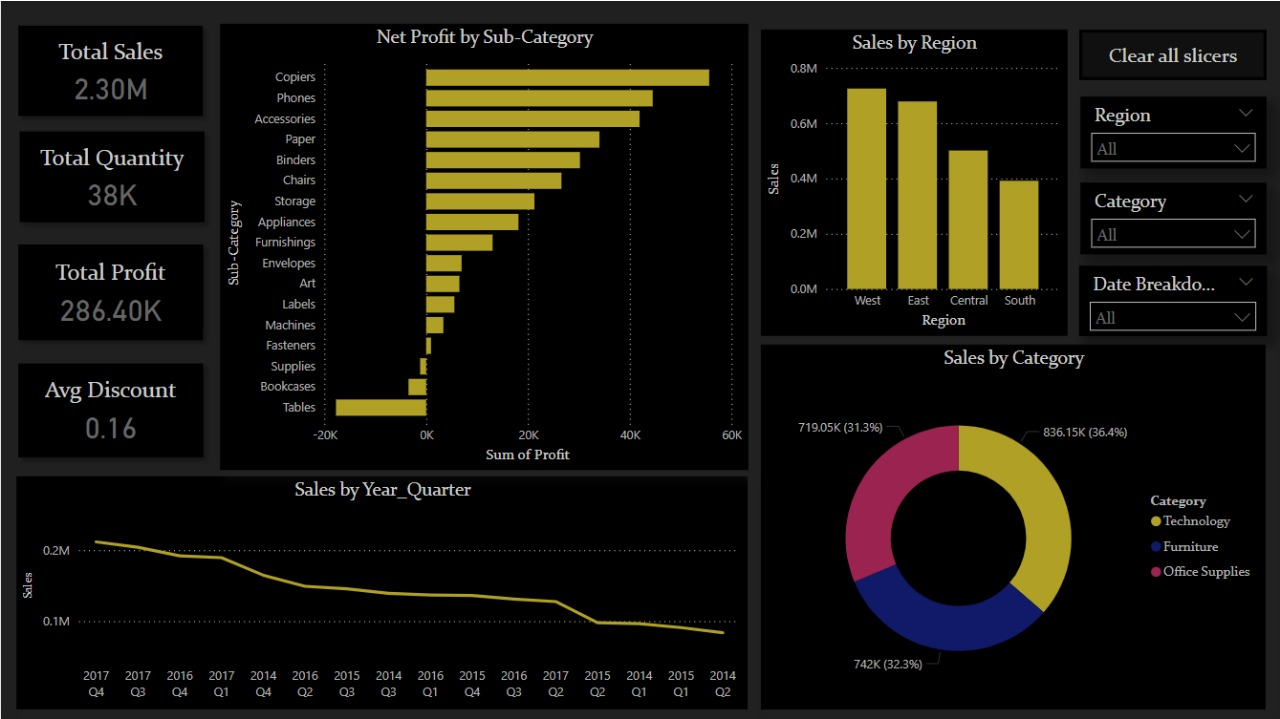

What the dashboard file says about the page in this screenshot:
{"tool":"powerbi","page":{"name":"Supermarket Sales Dashboard","canvas":[1280,720],"ordinal":0},"visuals":[{"type":"cardVisual","fields":{"Data":["Sum(Superstore Sales.Sales)"]},"box":[0,6.5,219.6,125.2],"z":0},{"type":"cardVisual","fields":{"Data":["Sum(Superstore Sales.Quantity)"]},"box":[1.6,113.9,219.6,125.2],"z":1000},{"type":"lineChart","title":"Sales by Year_Quarter","fields":{"Y":["Sum(Superstore_Sales.Sales)"],"Category":["Superstore_Sales.Year_Quarter"]},"box":[16.3,475,730.3,232.6],"z":2000},{"type":"clusteredColumnChart","fields":{"Category":["Superstore_Sales.Region"],"Y":["Sum(Superstore_Sales.Sales)"]},"box":[759.6,29.3,305.8,305.8],"z":3000},{"type":"donutChart","title":"Sales by Category","fields":{"Y":["Sum(Superstore_Sales.Sales)"],"Category":["Superstore_Sales.Category"]},"box":[759.6,343.2,504.2,364.3],"z":4000},{"type":"slicer","fields":{"Values":["Superstore_Sales.Region"]},"box":[1078.4,96,185.4,71.6],"z":5000},{"type":"slicer","fields":{"Values":["Superstore_Sales.Category"]},"box":[1078.4,182.2,185.4,71.6],"z":6000},{"type":"clusteredBarChart","title":"Net Profit by Sub-Category","fields":{"Category":["Superstore_Sales.Sub-Category"],"Y":["Sum(Superstore_Sales.Profit)"]},"box":[219.6,22.8,527,445.7],"z":7000},{"type":"cardVisual","fields":{"Data":["Sum(Superstore_Sales.Profit)"]},"box":[0,226.1,219.6,130.1],"z":8000},{"type":"cardVisual","fields":{"Data":["Superstore_Sales.Avg Discount"]},"box":[0,344.8,219.6,128.5],"z":9000},{"type":"slicer","fields":{"Values":["Superstore_Sales.Order Date.Variation.Date Hierarchy.Year","Superstore_Sales.Order Date.Variation.Date Hierarchy.Quarter","Superstore_Sales.Order Date.Variation.Date Hierarchy.Month","Superstore_Sales.Order Date.Variation.Date Hierarchy.Day"]},"box":[1076.8,265.1,187.1,69.9],"z":10000},{"type":"actionButton","box":[1076.8,29.3,187.1,50.4],"z":13000}]}

Visuals, with their boxes in screenshot pixels (x1, y1, x2, y2), scaled from the page's 1280x720 canvas onto the 1280x719 screenshot:
cardVisual - Sum(Superstore Sales.Sales): <bbox>0, 6, 220, 132</bbox>
cardVisual - Sum(Superstore Sales.Quantity): <bbox>2, 114, 221, 239</bbox>
"Sales by Year_Quarter" lineChart: <bbox>16, 474, 747, 707</bbox>
clusteredColumnChart - Superstore_Sales.Region x Sum(Superstore_Sales.Sales): <bbox>760, 29, 1065, 335</bbox>
"Sales by Category" donutChart: <bbox>760, 343, 1264, 707</bbox>
slicer - Superstore_Sales.Region: <bbox>1078, 96, 1264, 167</bbox>
slicer - Superstore_Sales.Category: <bbox>1078, 182, 1264, 253</bbox>
"Net Profit by Sub-Category" clusteredBarChart: <bbox>220, 23, 747, 468</bbox>
cardVisual - Sum(Superstore_Sales.Profit): <bbox>0, 226, 220, 356</bbox>
cardVisual - Superstore_Sales.Avg Discount: <bbox>0, 344, 220, 473</bbox>
slicer - Superstore_Sales.Order Date.Variation.Date Hierarchy.Year x Superstore_Sales.Order Date.Variation.Date Hierarchy.Quarter: <bbox>1077, 265, 1264, 335</bbox>
actionButton: <bbox>1077, 29, 1264, 80</bbox>
